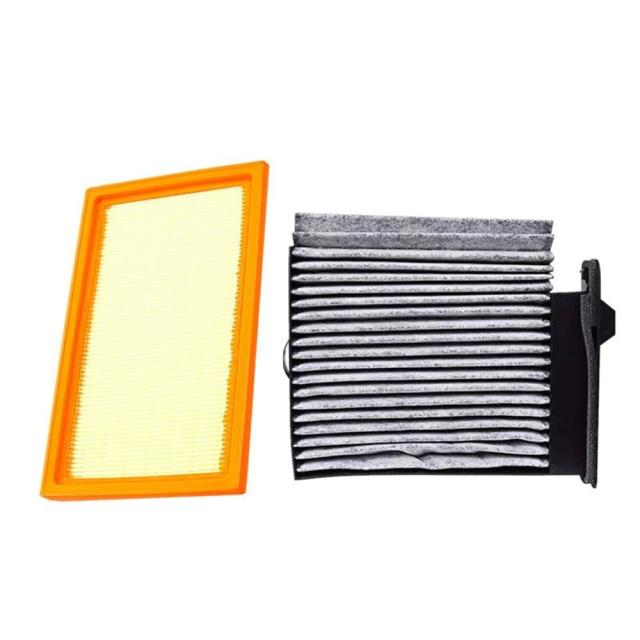air_filter: (290, 202, 622, 503), (28, 146, 278, 511)
